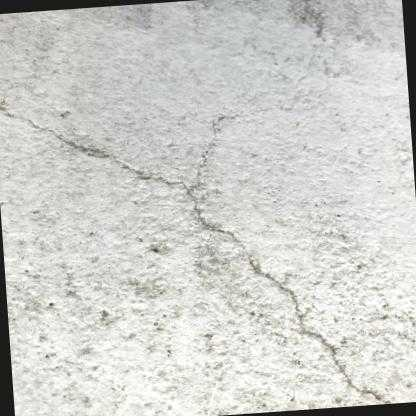crack: (0, 101, 393, 405)
